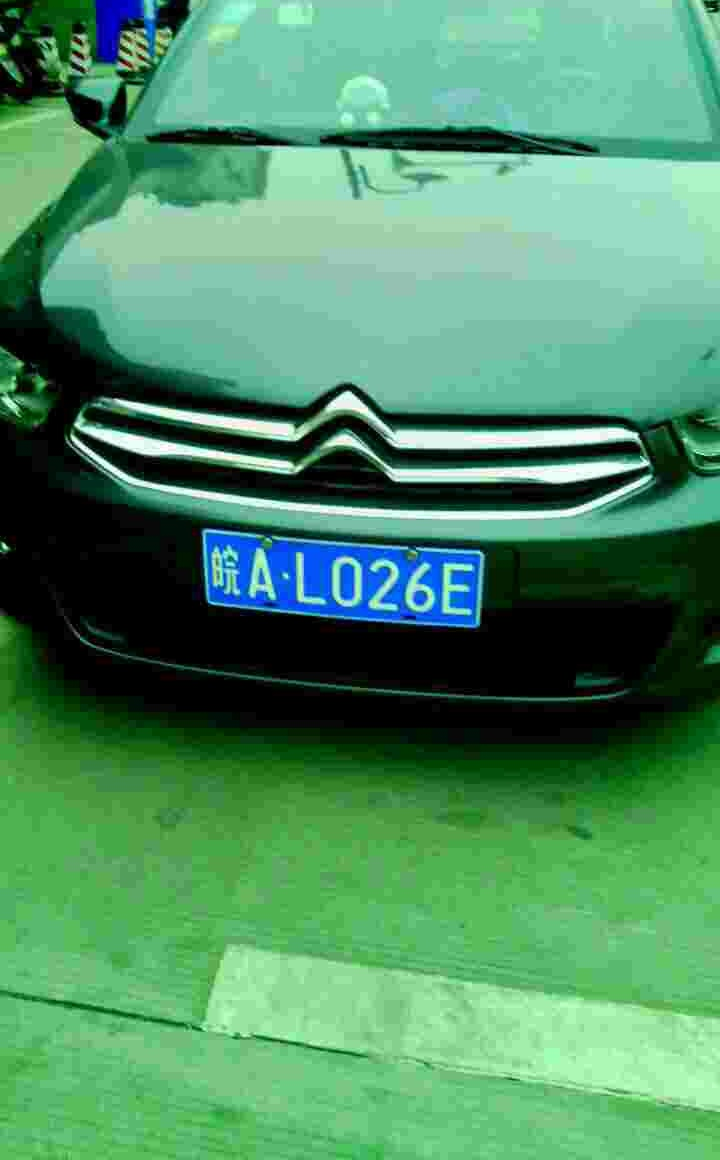car: (197, 523, 486, 632)
